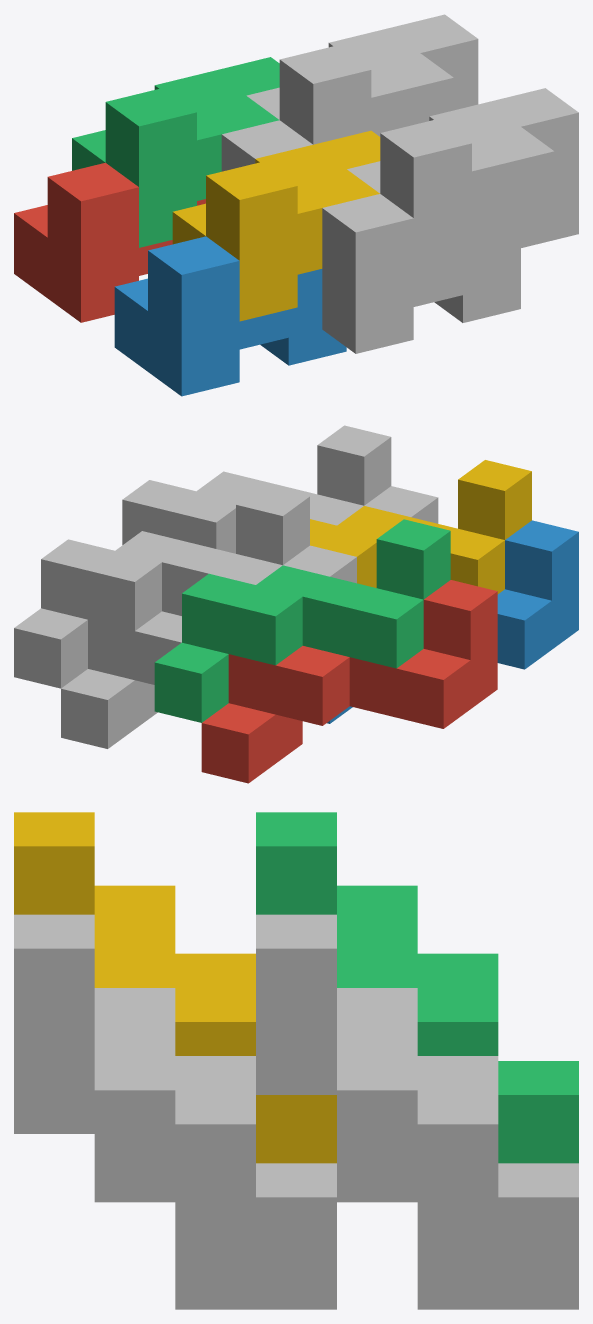
Rendered from tiling.obj.
The picture shows the model from 3 angles, top to bottom: view 1: azimuth 30°, elevation 25°; view 2: azimuth 150°, elevation 25°; view 3: azimuth 270°, elevation 25°; orthographic projection. The views are drawn at different scales.
Visible parts, largest first — view 1: copy_1_domain_8, copy_1_domain_2, copy_1_domain_6, copy_1_domain_4, copy_1_domain_7, copy_1_domain_3, copy_1_domain_1, copy_1_domain_5; view 2: copy_1_domain_3, copy_1_domain_1, copy_1_domain_7, copy_1_domain_8, copy_1_domain_5, copy_1_domain_4, copy_1_domain_2, copy_1_domain_6; view 3: copy_1_domain_7, copy_1_domain_8, copy_1_domain_3, copy_1_domain_4, copy_1_domain_6, copy_1_domain_5.
Boxes of the visible parts, <box> form: copy_1_domain_8: <box>347,88,578,278</box>; copy_1_domain_2: <box>114,236,346,396</box>; copy_1_domain_6: <box>322,194,520,353</box>; copy_1_domain_4: <box>172,130,380,321</box>; copy_1_domain_7: <box>246,14,478,144</box>; copy_1_domain_3: <box>72,57,279,247</box>; copy_1_domain_1: <box>14,162,205,322</box>; copy_1_domain_5: <box>221,120,312,171</box>; copy_1_domain_3: <box>154,519,450,722</box>; copy_1_domain_1: <box>201,580,497,783</box>; copy_1_domain_7: <box>14,485,309,688</box>; copy_1_domain_8: <box>122,425,391,553</box>; copy_1_domain_5: <box>61,545,356,748</box>; copy_1_domain_4: <box>310,460,531,594</box>; copy_1_domain_2: <box>327,520,578,723</box>; copy_1_domain_6: <box>364,486,438,523</box>; copy_1_domain_7: <box>256,914,578,1270</box>; copy_1_domain_8: <box>14,914,336,1270</box>; copy_1_domain_3: <box>256,812,578,1163</box>; copy_1_domain_4: <box>14,812,336,1163</box>; copy_1_domain_6: <box>14,1095,336,1309</box>; copy_1_domain_5: <box>337,1163,578,1309</box>.
Bounding box in the file's own units: 8 × 4 × 7.
